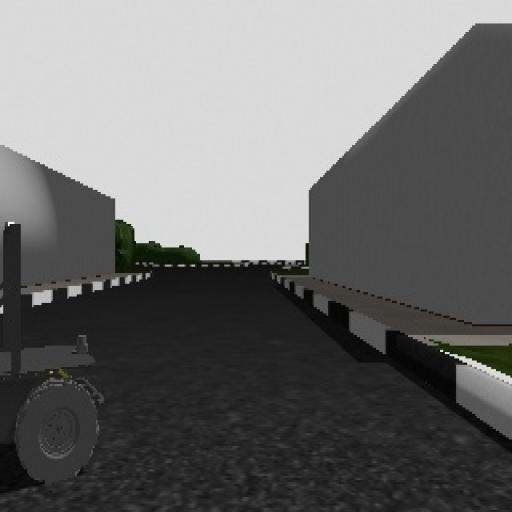huskya200: (1, 196, 109, 498)
